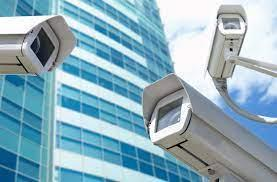tutu: (131, 61, 277, 182), (0, 4, 79, 85), (200, 0, 252, 91)
